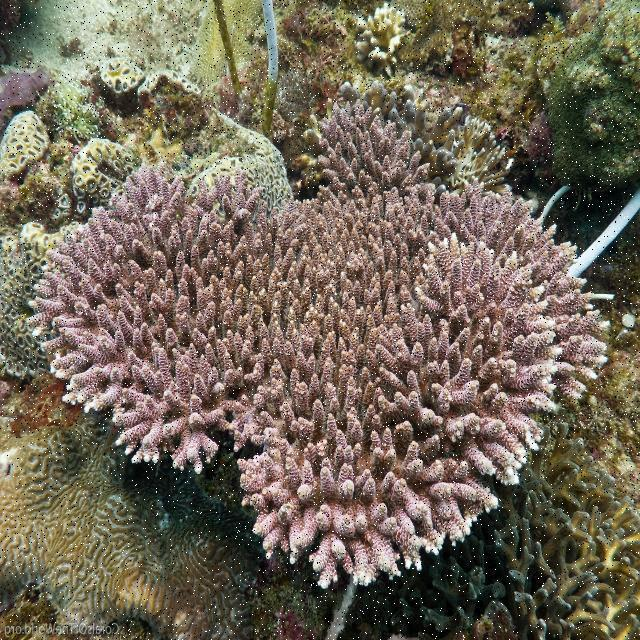Healthy: (34, 95, 604, 593)
